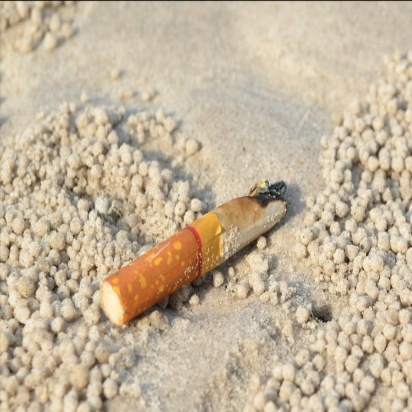cigarette: (93, 179, 301, 340)
